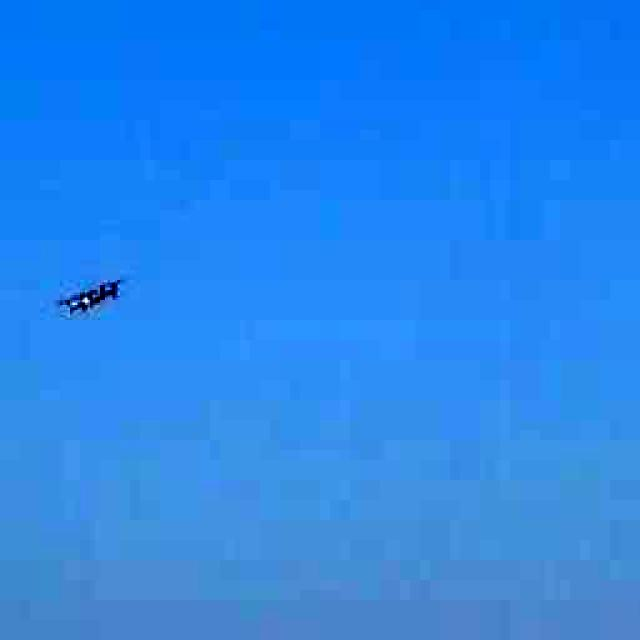bird: (22, 250, 162, 335)
